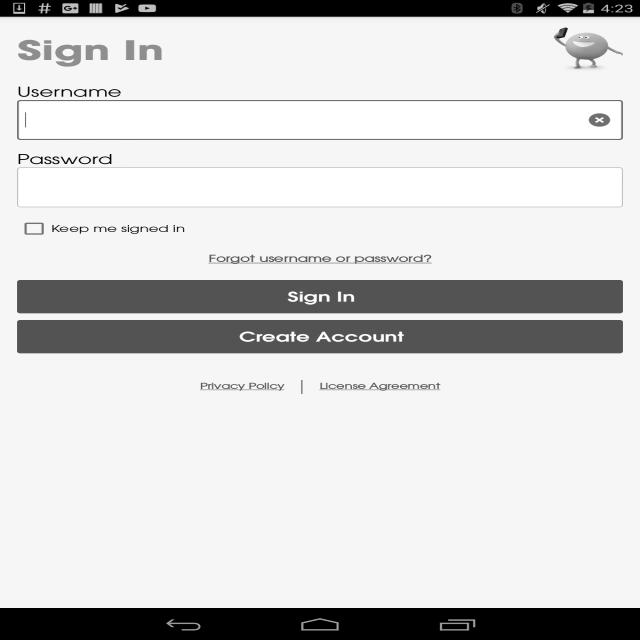Button: (17, 280, 623, 313), (17, 320, 623, 353), (17, 242, 623, 274), (302, 370, 440, 402), (200, 370, 302, 402)
CheckBox: (17, 218, 623, 239)
EditText: (17, 168, 623, 208), (17, 100, 584, 140)
ImageView: (554, 27, 623, 73), (589, 113, 610, 127)
TextView: (17, 27, 164, 73), (17, 83, 122, 100), (17, 151, 113, 167)
